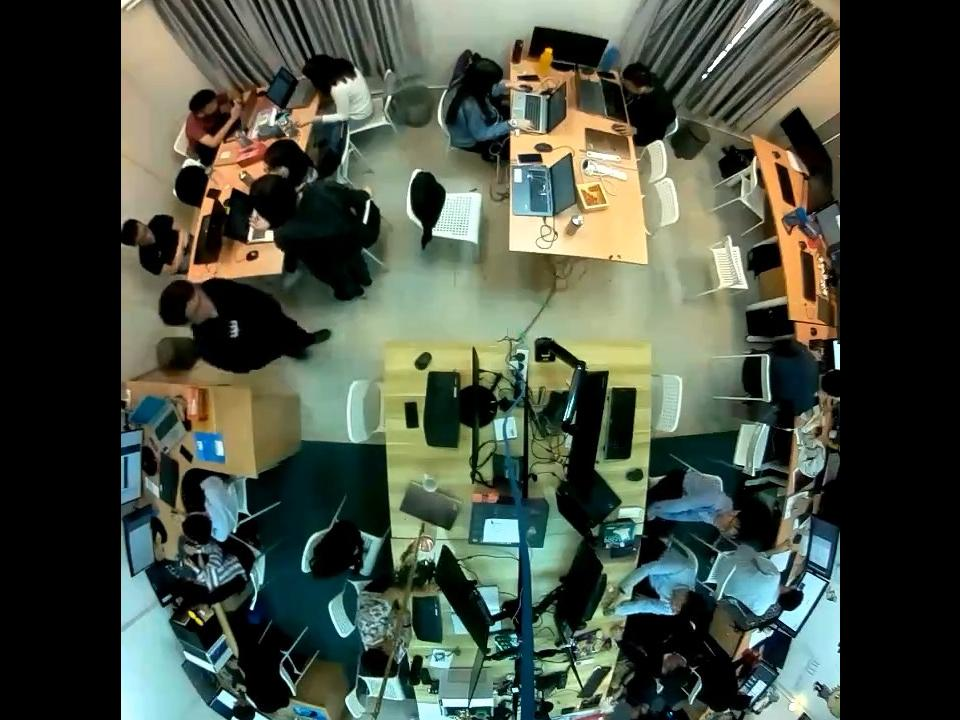name-tag: (225, 319, 240, 339)
